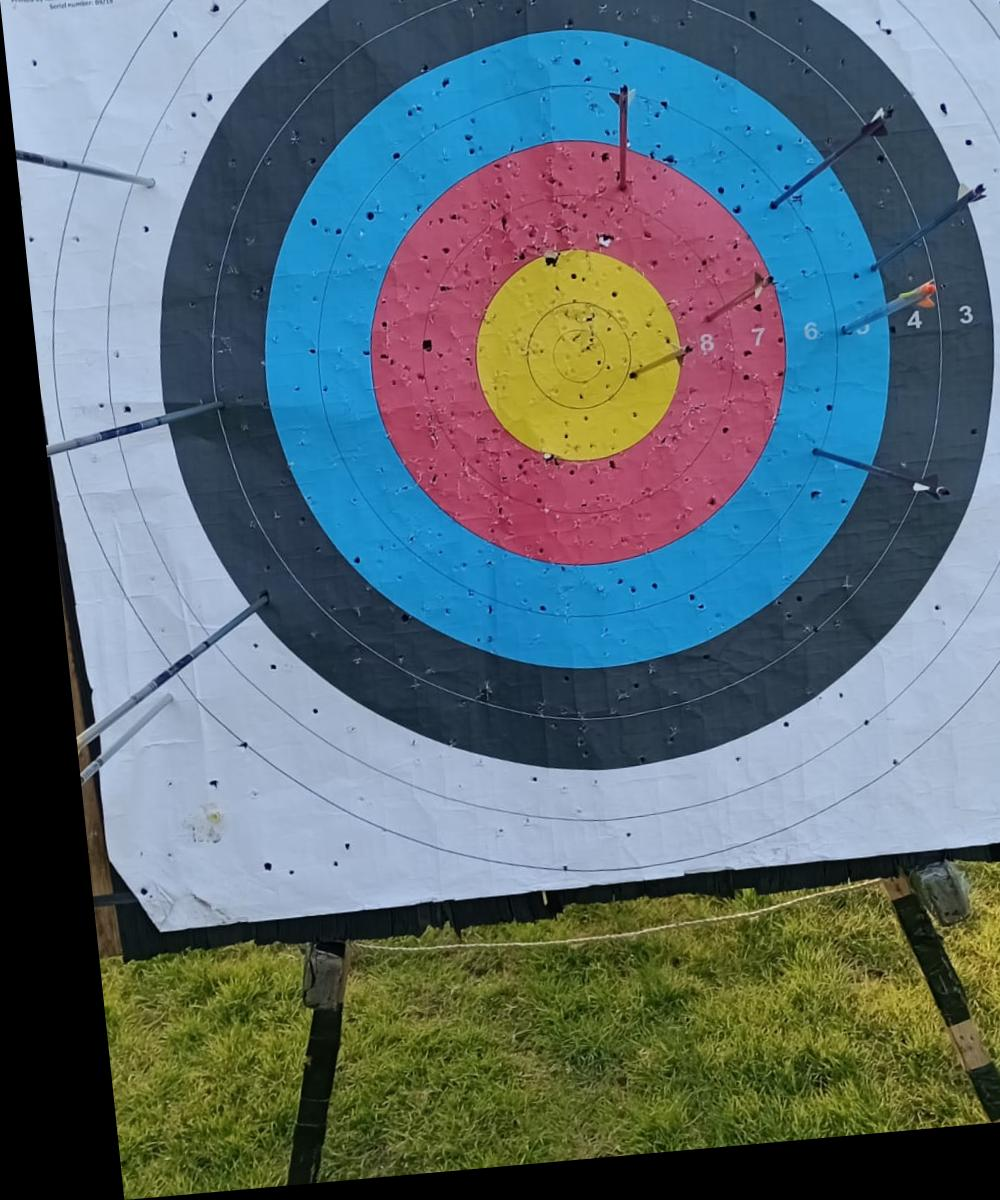1-Ring: (45, 0, 1000, 879)
10-Ring: (504, 301, 637, 436)
2-Ring: (98, 0, 1000, 827)
3-Ring: (149, 0, 983, 781)
4-Ring: (204, 0, 931, 729)
5-Ring: (234, 23, 900, 700)
6-Ring: (293, 82, 843, 644)
7-Ring: (353, 145, 787, 587)
8-Ring: (391, 186, 747, 545)
9-Ring: (462, 256, 678, 477)
Arrow: (52, 593, 255, 756), (764, 119, 899, 235), (854, 192, 985, 287), (34, 400, 213, 456), (58, 695, 157, 785), (798, 463, 940, 518), (10, 149, 151, 193), (829, 296, 933, 350), (694, 279, 771, 342), (596, 95, 633, 200), (618, 353, 686, 388)
